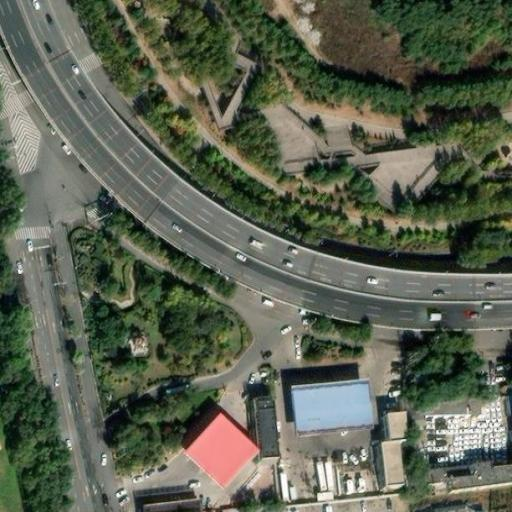building: (178, 424, 249, 496), (432, 440, 512, 499), (284, 390, 369, 442), (402, 158, 443, 200), (409, 393, 469, 415), (138, 493, 200, 512), (251, 409, 272, 465), (377, 449, 400, 494), (382, 419, 406, 451), (124, 329, 148, 356)
